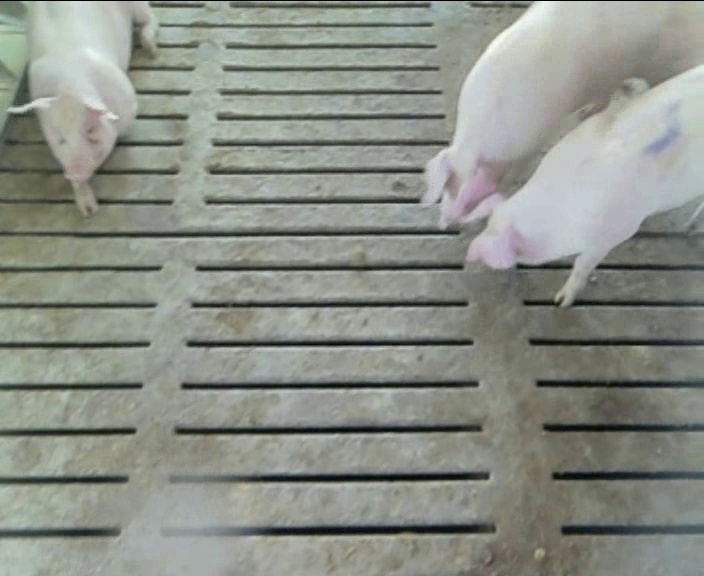pig: (422, 2, 703, 227), (10, 2, 157, 216)
